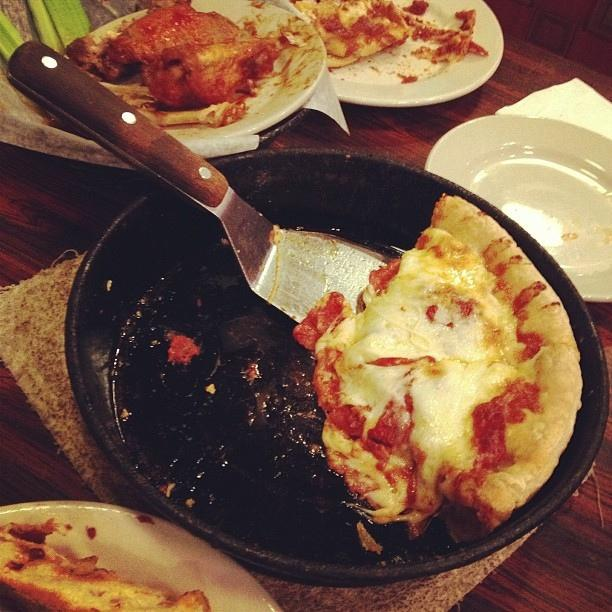celery: (44, 2, 92, 49), (26, 0, 66, 55), (1, 10, 26, 64)
